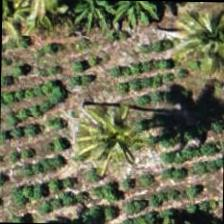Kelapa_Sawit: (64, 90, 156, 182), (169, 1, 223, 88)
